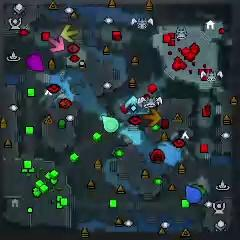p1: (185, 184, 202, 204)
p2: (102, 115, 119, 133)
p3: (27, 55, 44, 72)
x1: (49, 36, 65, 54)
x2: (61, 24, 79, 43)
x3: (124, 96, 141, 111)
x4: (193, 184, 208, 198)
x5: (141, 108, 161, 126)
